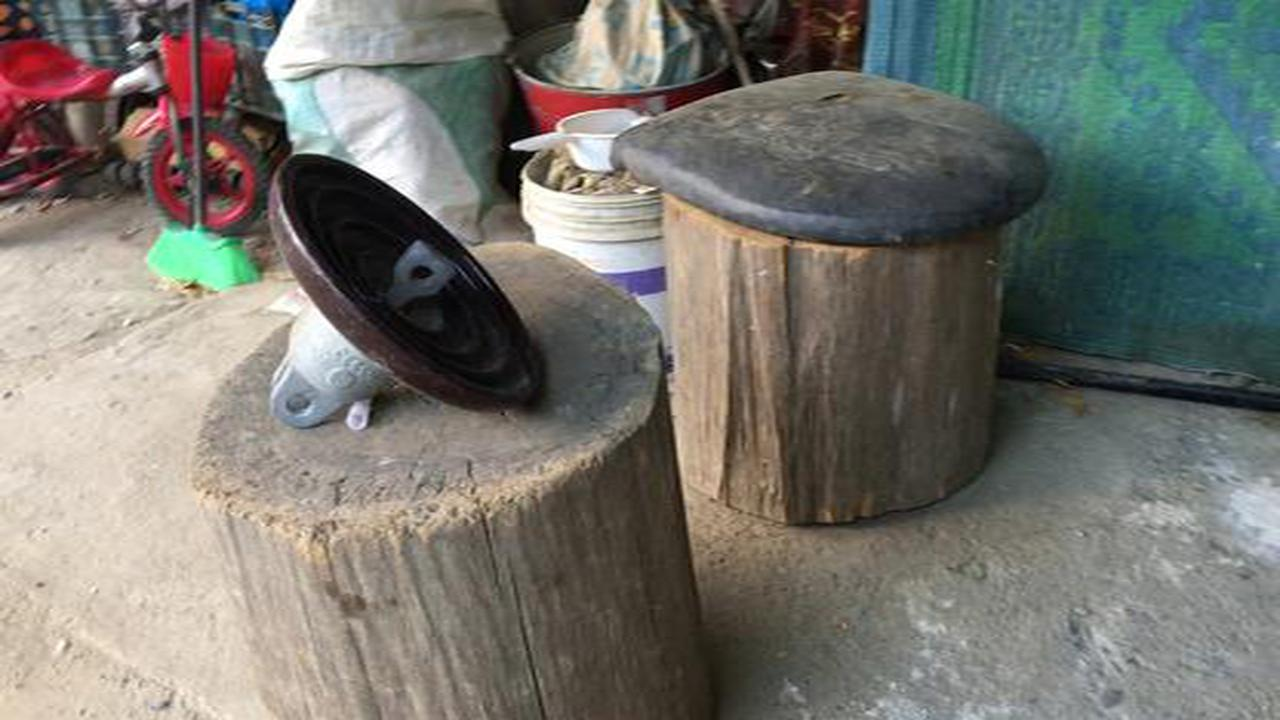insulator_disc: (258, 145, 553, 441)
